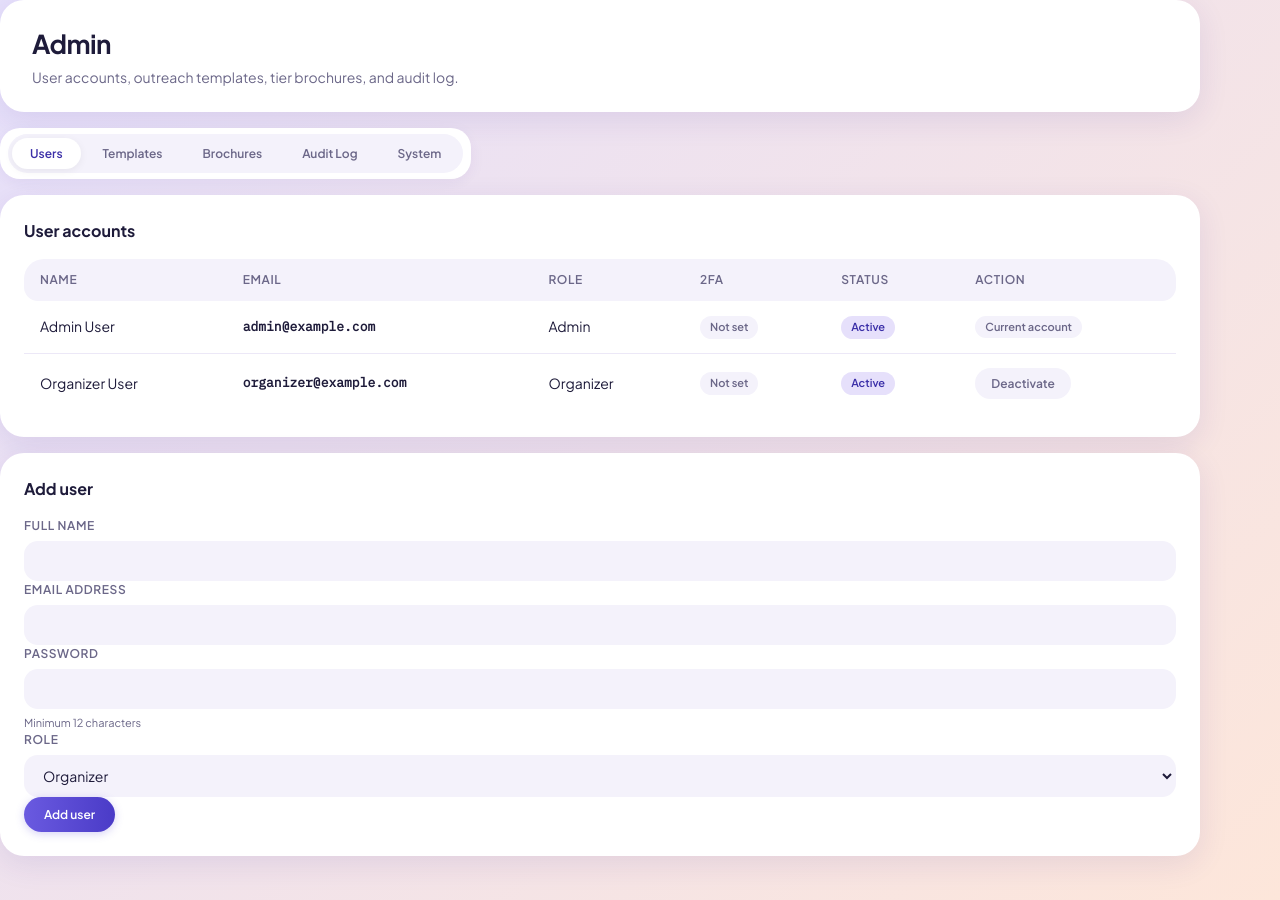
Admin page › switches to Templates tab and shows template list and form
The width and height of the screenshot is (1280, 900).
Click the button "Templates": click(132, 154) [84, 138, 180, 169]
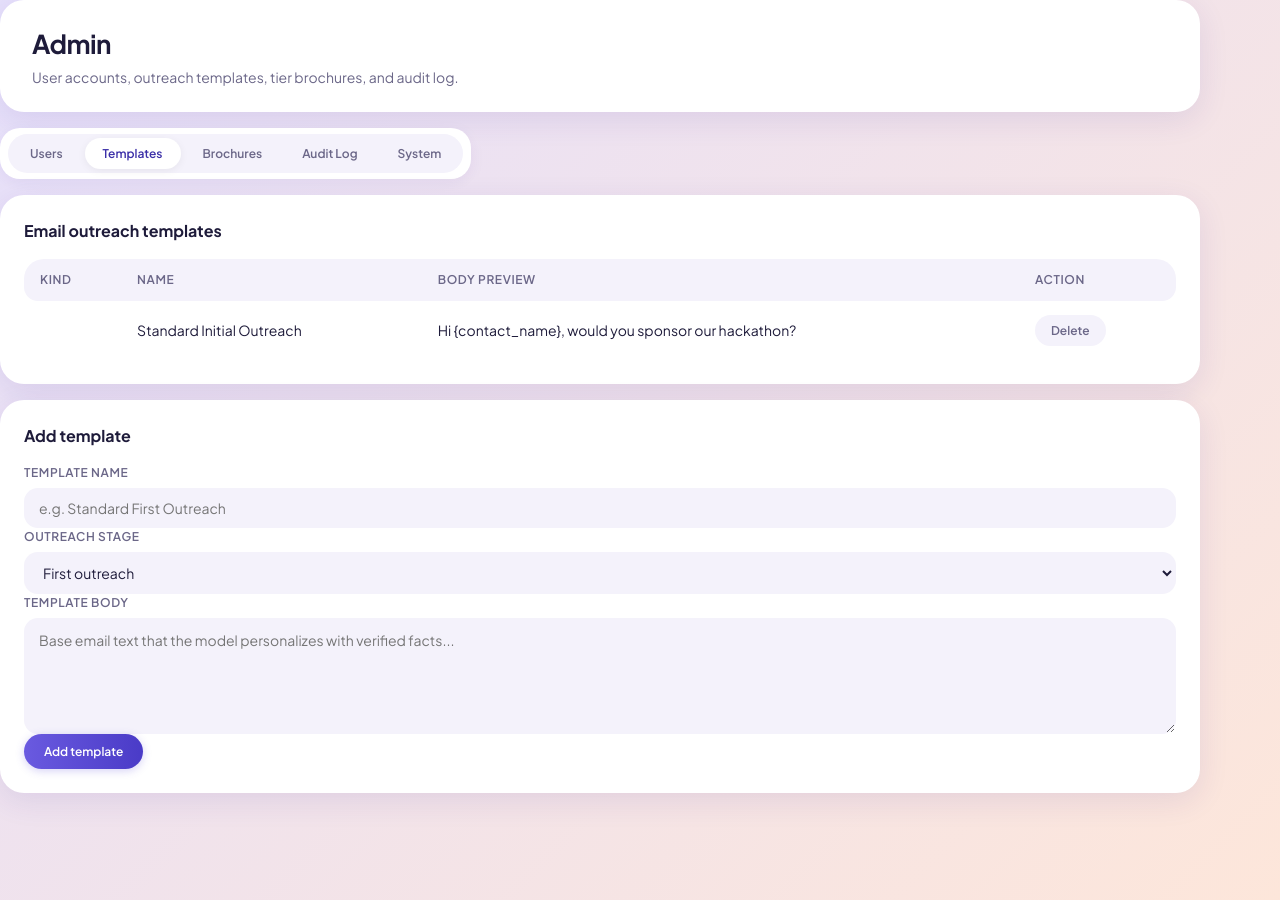
Now the text "Standard Initial Outreach" is shown, box [121, 301, 422, 360]
Now the text "Hi {contact_name}, would you sponsor our hackathon?" is shown, box [422, 301, 1019, 360]
Now the field labelled "Template name" is shown, box [24, 488, 1176, 528]
